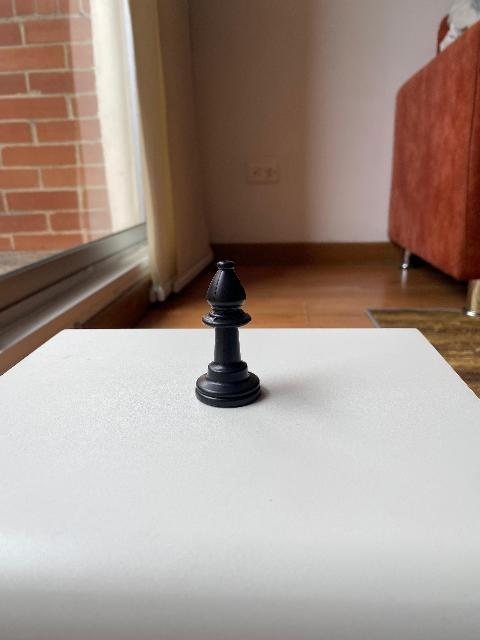black-bishop: (194, 258, 262, 408)
